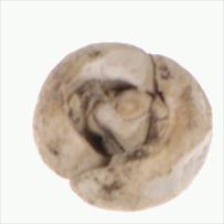L3: (77, 76, 171, 162)
L4: (33, 43, 213, 210)
